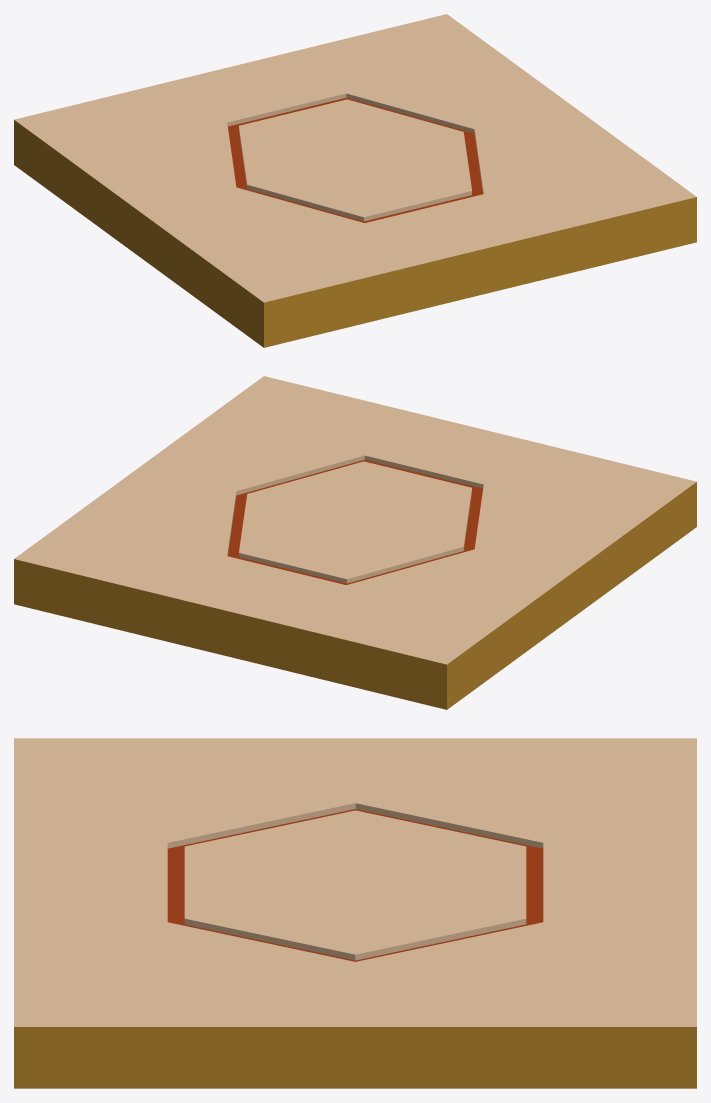
File: FloorPattern-v2.fbx
3 renders of one model, top to bottom at view 1: azimuth 30°, elevation 25°; view 2: azimuth 150°, elevation 25°; view 3: azimuth 270°, elevation 25°, orthographic. The views are drawn at different scales.
Parts seen in each view (by area): view 1: Floor pattern 2; view 2: Floor pattern 2; view 3: Floor pattern 2.
Part boxes in pixels (<box>): Floor pattern 2: <box>14,14,696,347</box>; Floor pattern 2: <box>14,376,696,709</box>; Floor pattern 2: <box>14,738,696,1088</box>.
Bounding box in the file's own units: 200 × 20 × 200.
